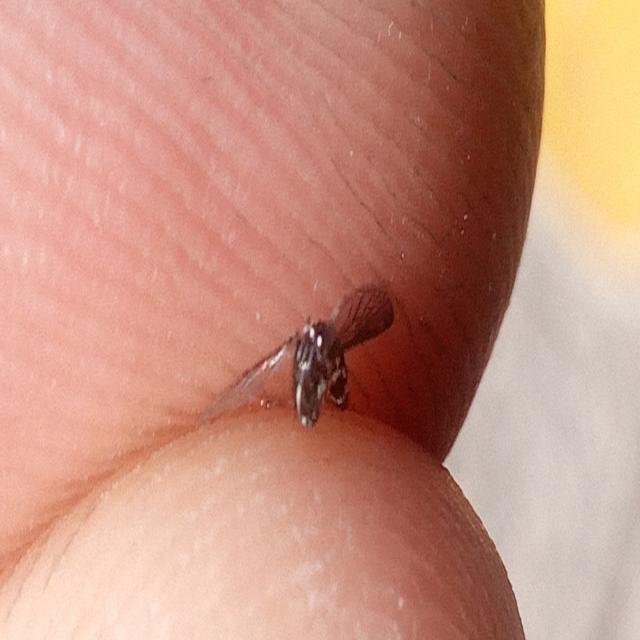albopictus: (231, 273, 392, 456)
